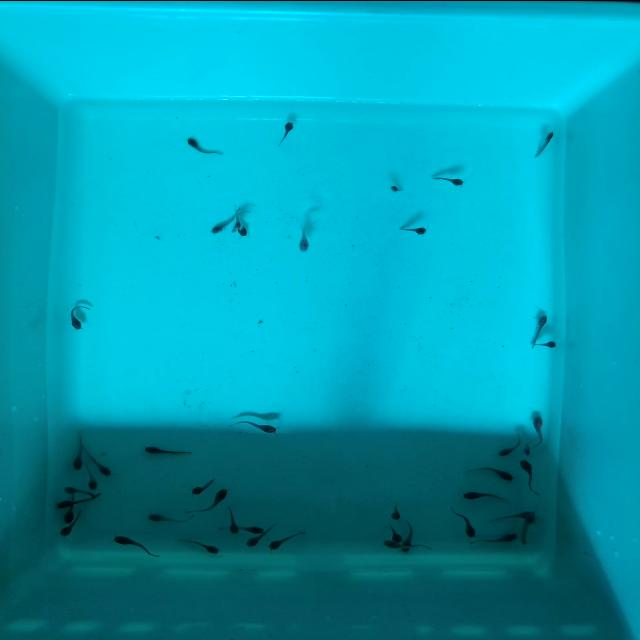lele: (113, 532, 163, 560), (462, 458, 516, 482), (447, 502, 478, 540), (194, 485, 230, 517), (209, 204, 246, 235), (80, 448, 114, 481), (267, 526, 307, 554), (243, 520, 280, 549), (173, 534, 220, 556), (55, 509, 88, 539), (516, 456, 542, 494), (488, 506, 536, 526), (182, 133, 220, 157), (231, 418, 279, 437), (526, 313, 550, 350), (530, 128, 556, 160), (295, 218, 318, 254), (494, 432, 524, 459), (467, 532, 517, 548), (142, 444, 192, 458), (146, 510, 192, 524), (190, 474, 219, 496), (458, 489, 506, 502), (277, 118, 297, 148), (429, 172, 466, 188), (74, 431, 88, 471), (82, 461, 100, 492), (225, 502, 241, 534), (382, 540, 432, 550), (532, 414, 546, 448), (68, 305, 85, 333), (62, 483, 94, 497), (55, 498, 95, 508), (400, 520, 412, 552), (397, 224, 427, 236), (237, 523, 267, 534), (236, 212, 248, 237), (226, 219, 243, 235), (390, 500, 402, 522), (520, 520, 530, 544), (534, 339, 558, 348), (390, 521, 400, 541), (65, 506, 74, 524), (390, 184, 403, 192), (524, 439, 530, 456)
